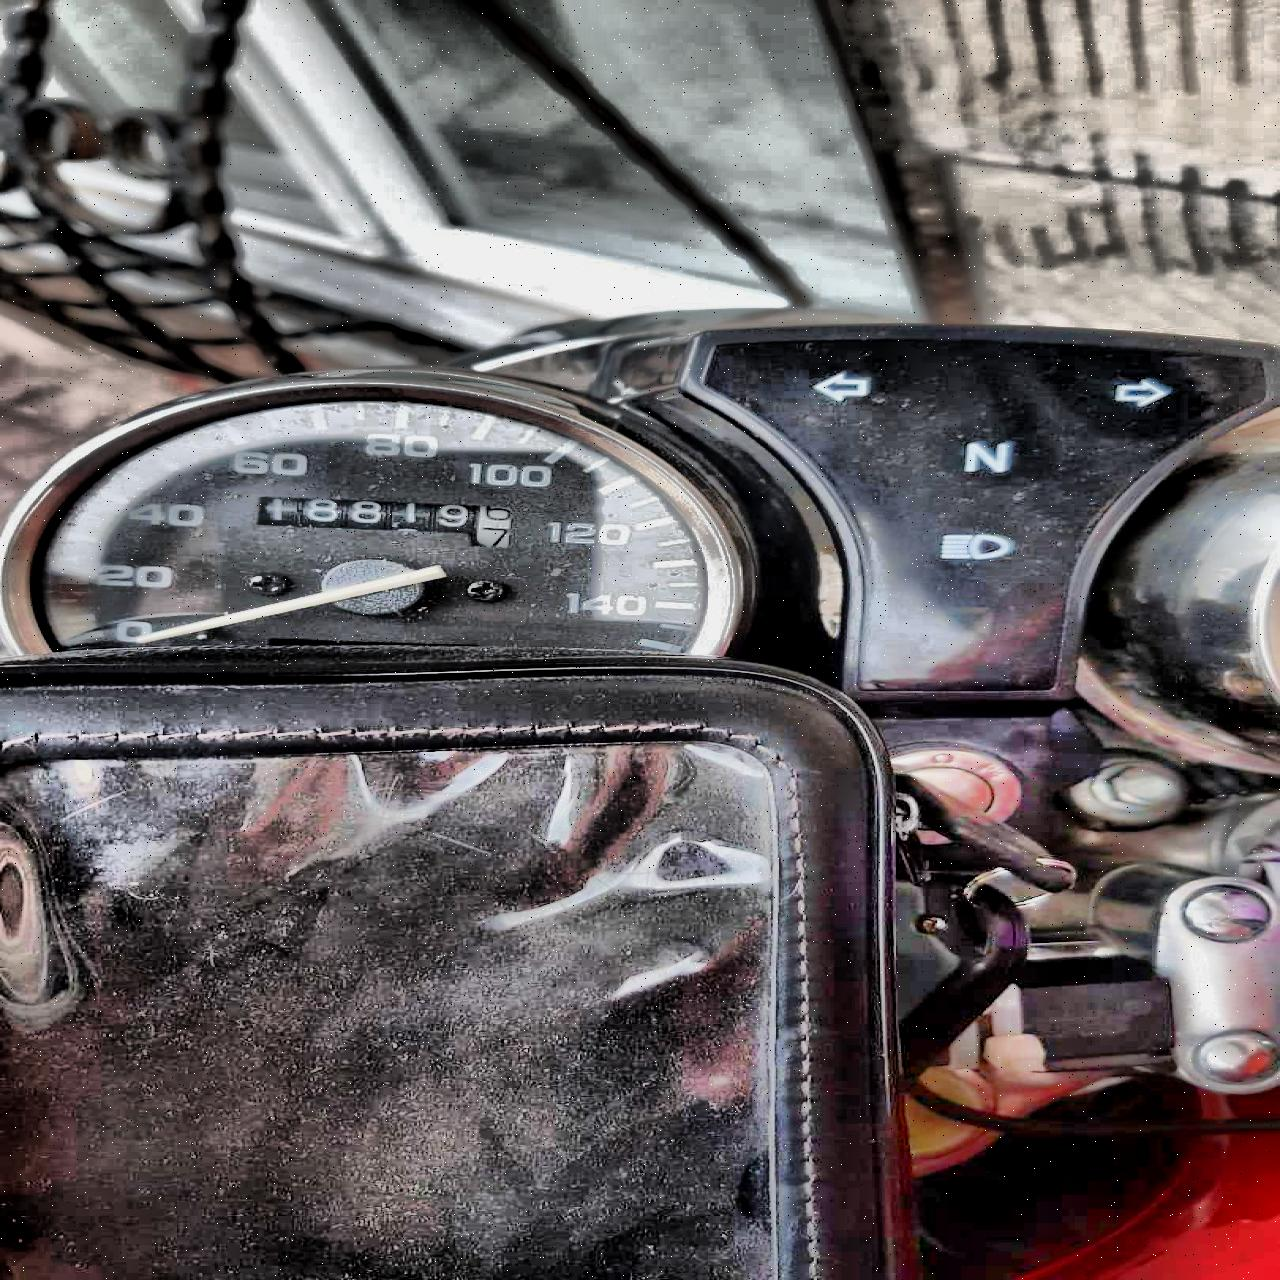1: (400, 501, 421, 523), (267, 497, 286, 520)
6: (482, 503, 512, 520)
7: (479, 524, 509, 546)
8: (348, 498, 384, 524), (304, 497, 339, 522)
9: (436, 502, 469, 527)
odometer: (250, 493, 516, 551)
